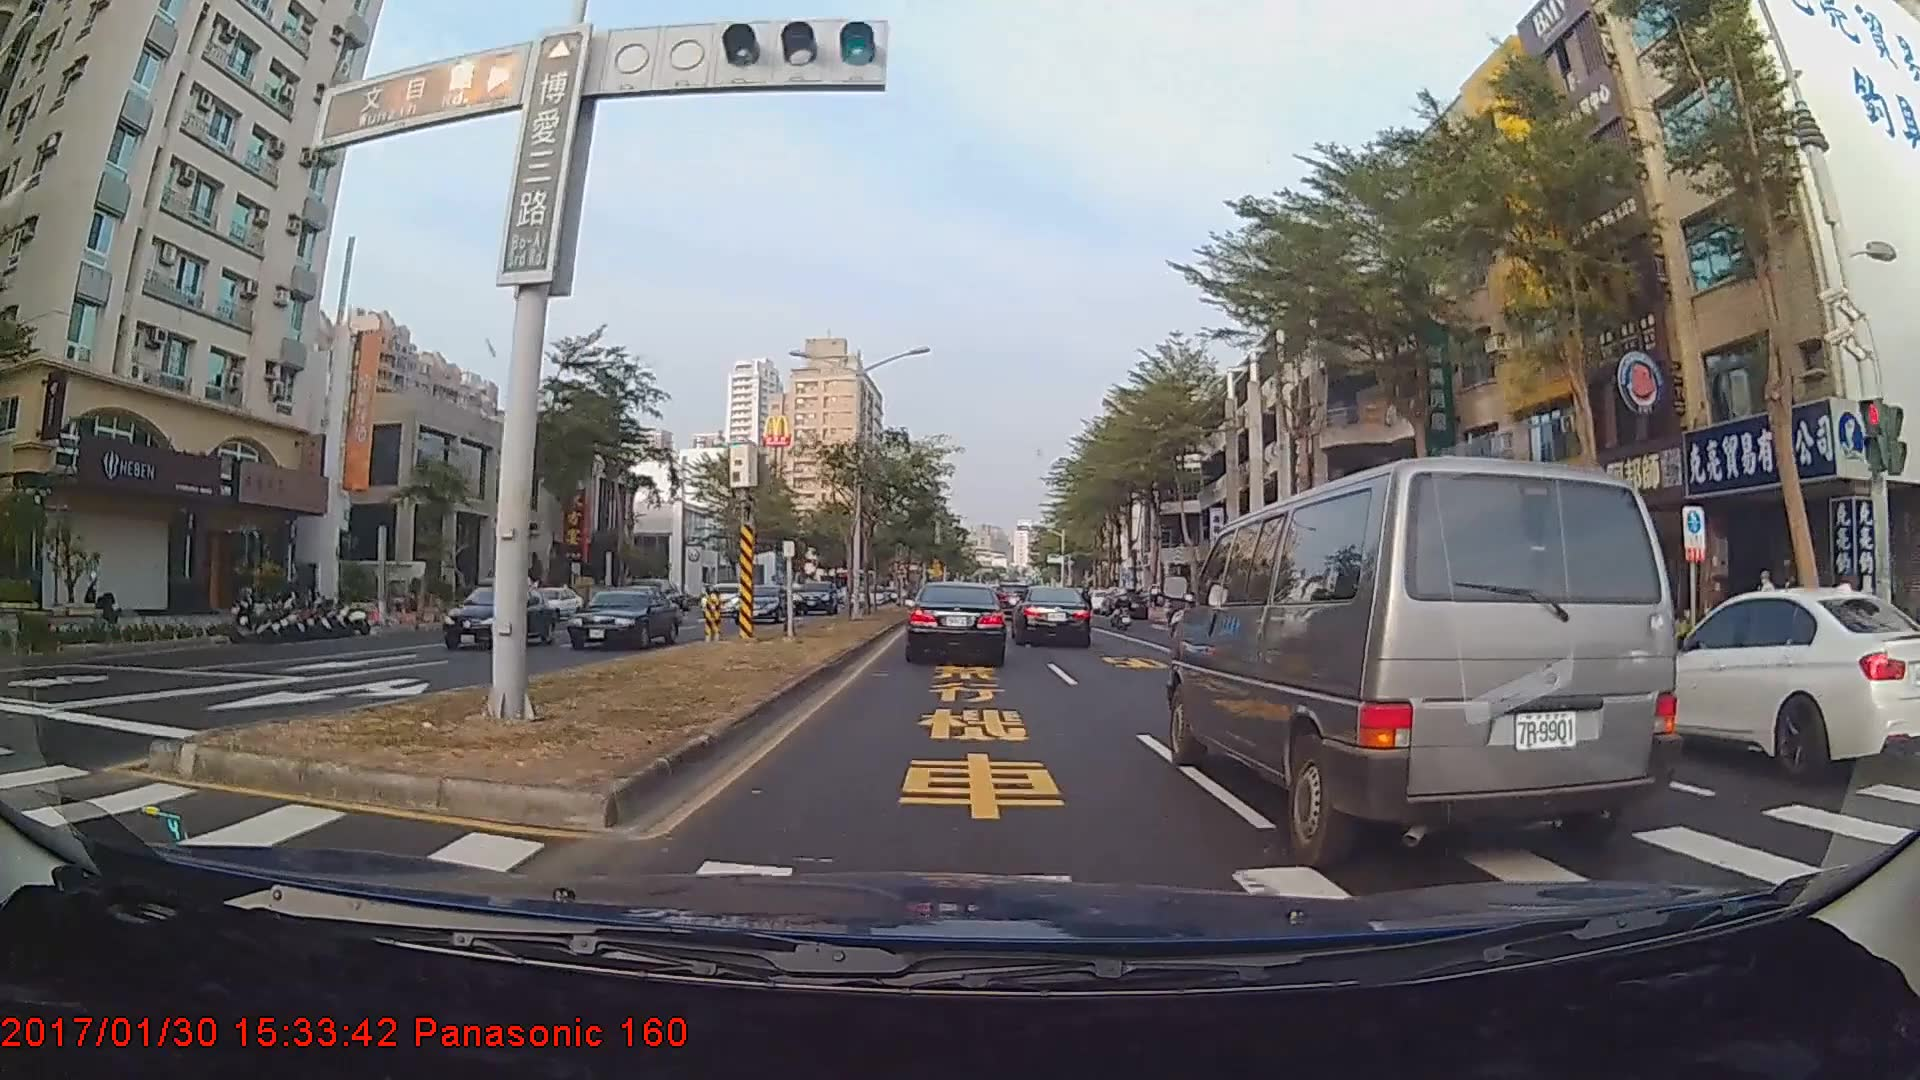vehicle: (1179, 447, 1683, 864), (1615, 584, 1920, 778), (905, 583, 1007, 665), (440, 583, 556, 651), (564, 585, 679, 651), (1011, 584, 1092, 647), (731, 585, 787, 622), (699, 582, 749, 618), (793, 582, 837, 618)
